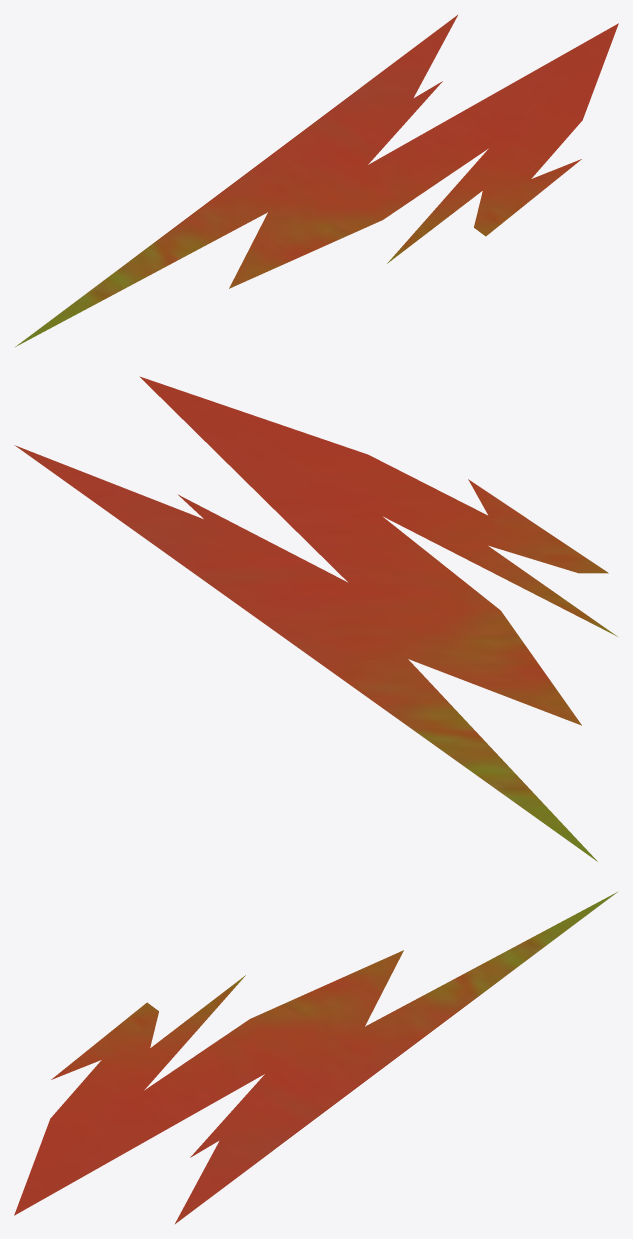
The model's file is SM_paint_splatter_1.fbx.
3 renders of one model, top to bottom at view 1: azimuth 90°, elevation 25°; view 2: azimuth 150°, elevation 25°; view 3: azimuth 270°, elevation 25°, orthographic. The views are drawn at different scales.
Parts seen in each view (by area): view 1: paint_splatter; view 2: paint_splatter; view 3: paint_splatter.
Part boxes in pixels (x1,y1,x2,y2): paint_splatter: [15, 15, 618, 346]; paint_splatter: [14, 376, 617, 861]; paint_splatter: [14, 892, 617, 1223].
Size of the model in its own units: 222 by 1.04e-14 by 170.
Materials: 1 (1 with a texture image).
